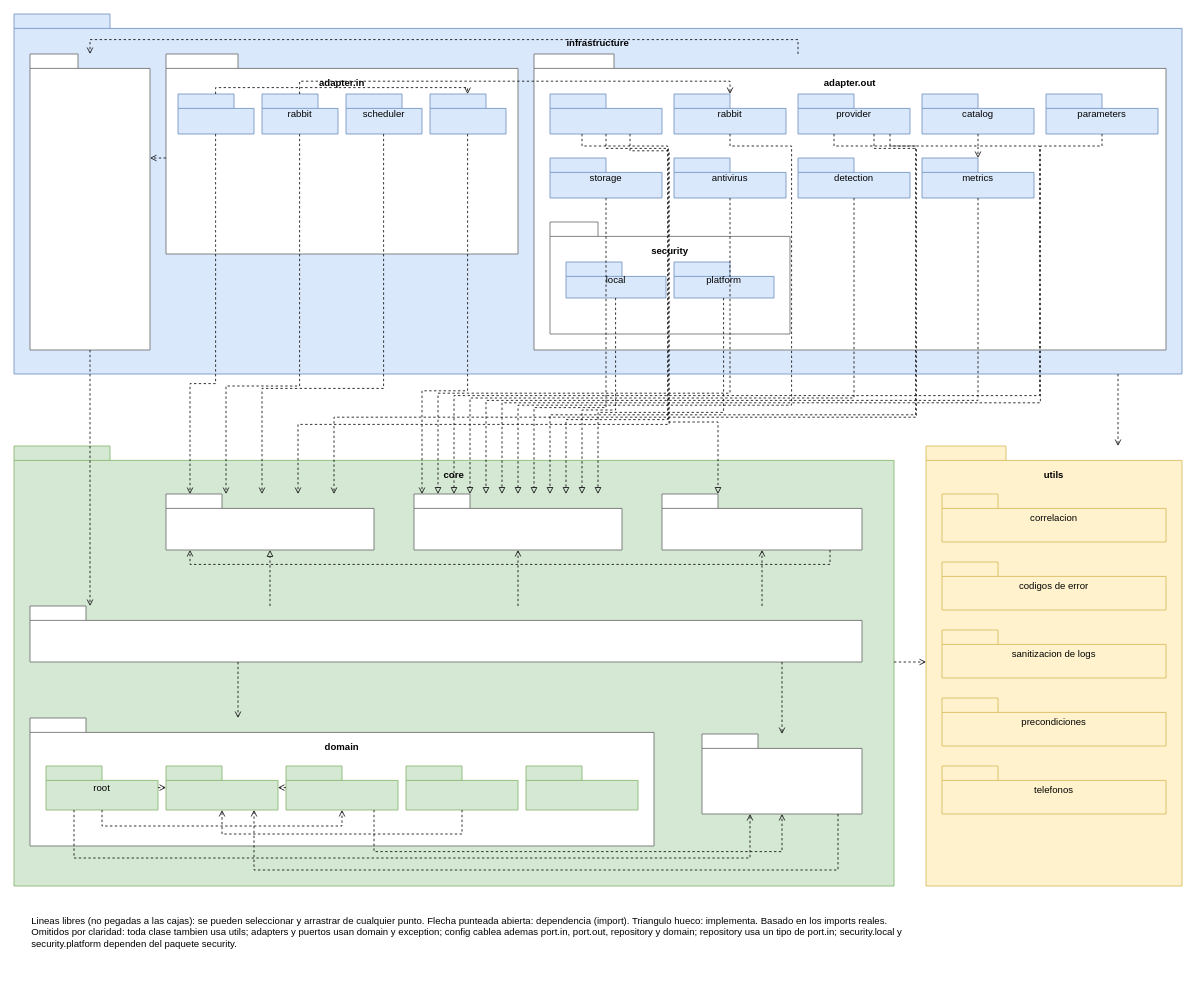
Some shapes in this 1196 by 996 pixel diagram are drawn without their labels. Here are the shapes that lost their labels. From the top down, the centre of each, then its label:
At [215,113]: "rest".
At [467,113]: "web".
At [605,113]: "mongo".
At [89,201]: "config".
At [269,521]: "port.in".
At [517,521]: "port.out".
At [761,521]: "repository".
At [445,633]: "usecase".
At [221,787]: "valueobject".
At [341,787]: "policy".
At [461,787]: "event".
At [581,787]: "configuration".
At [781,773]: "exception".
